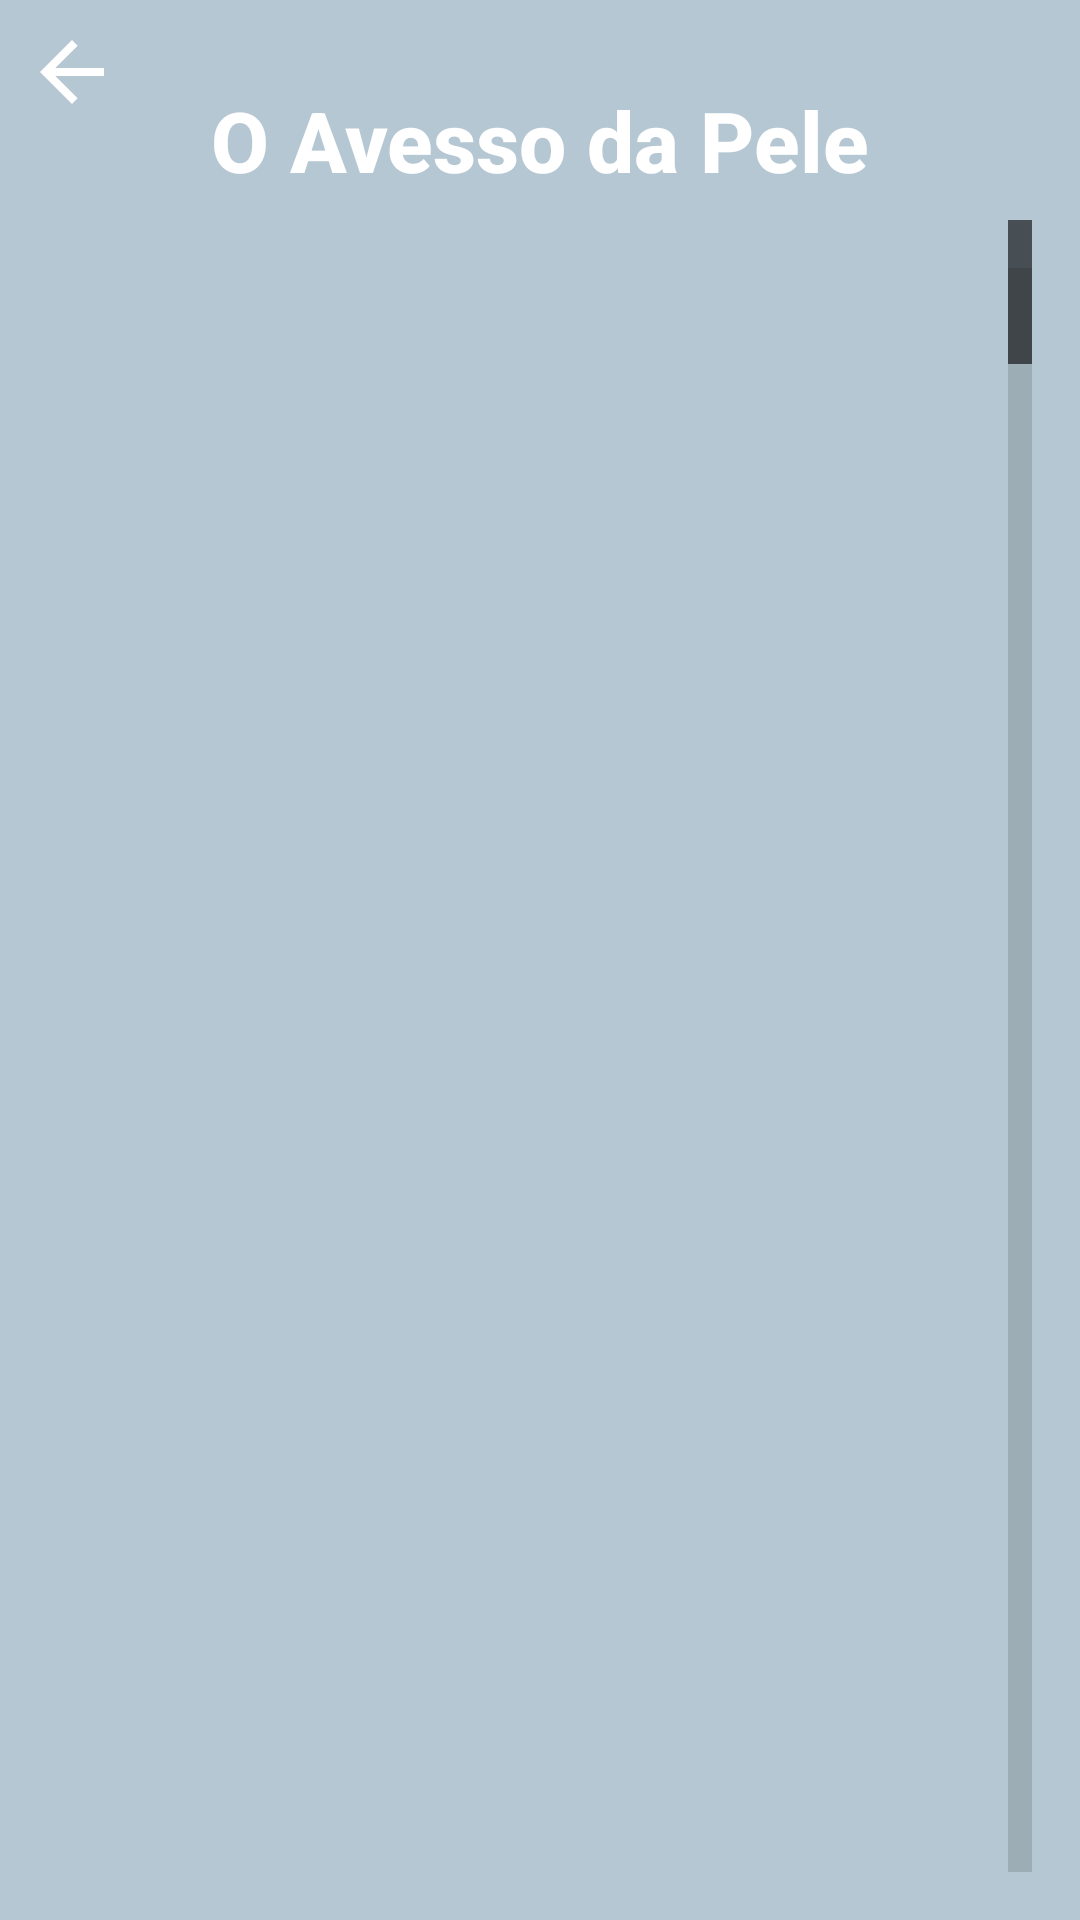

Icons on this 1080px x 1920px Android screen, each with the point to tap as point (x, y):
Voltar à tela anterior: point (72, 72)
